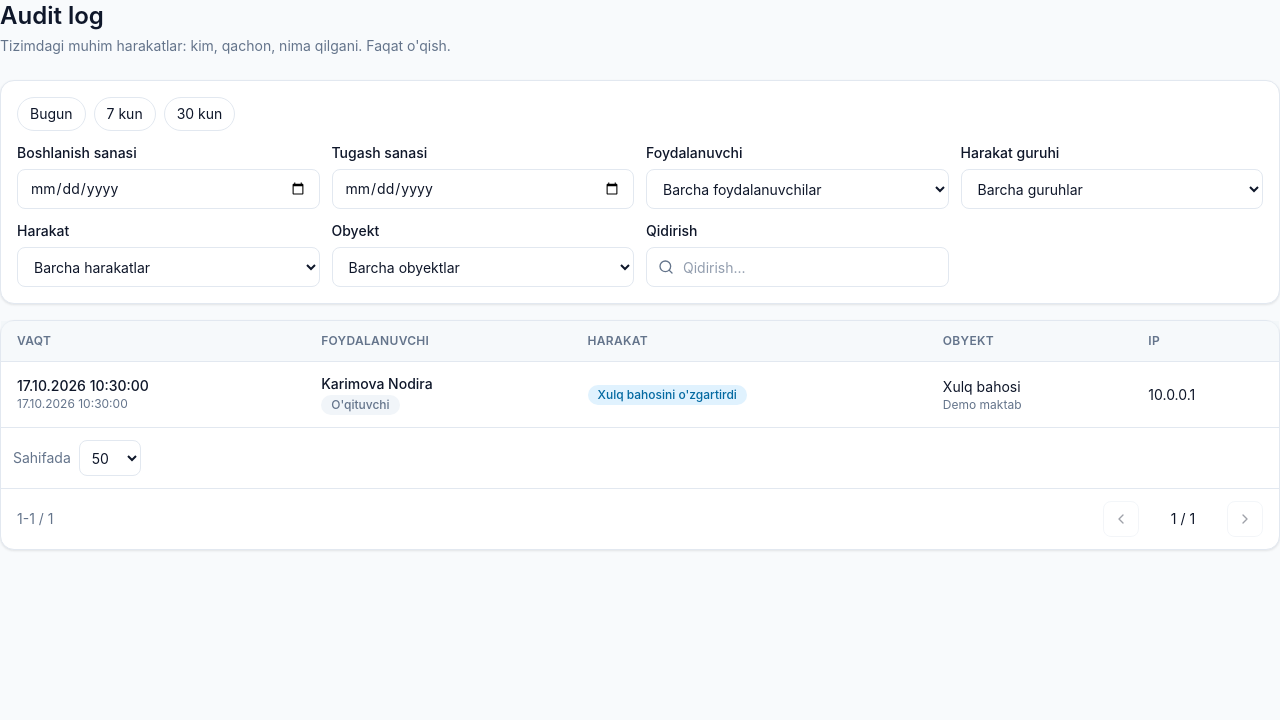
Test: AuditLogView › qatorni bosganda tafsilot oynasi: before/after diff
This screenshot has width=1280, height=720.
What coordinates should you click on to do the following:
click the button with test id "audit-open"
I would click on:
 (83, 394)
Its box is 17,376 -> 149,412.
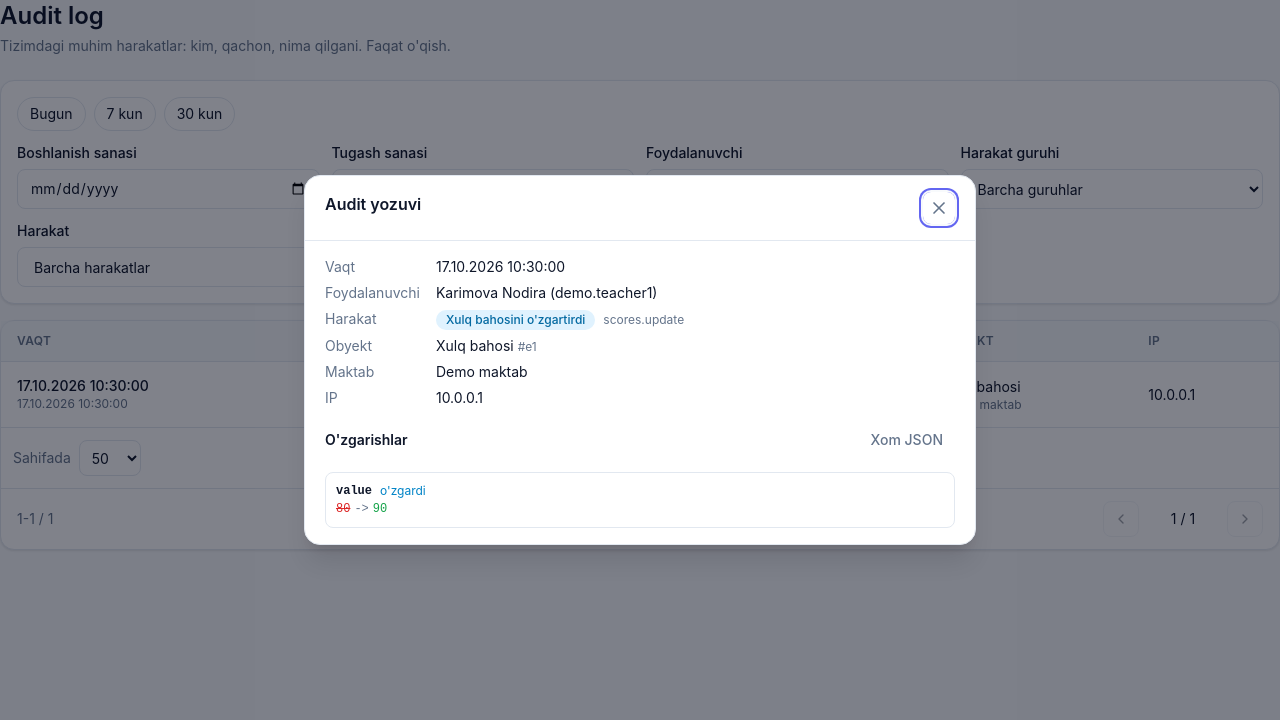
Check: the element with test id "audit-detail" is shown, box 325,257 -> 955,528
Check: the number of list items is 1, box 336,483 -> 426,516
Check: the list item "value o'zgardi 80->90" is shown, box 336,483 -> 426,516
